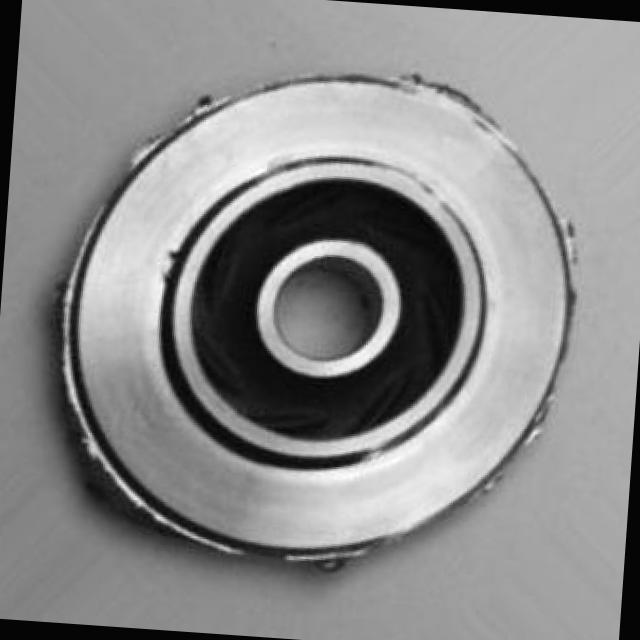Defect: (406, 66, 501, 123)
